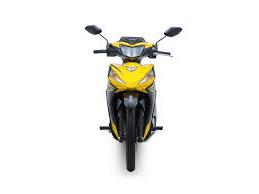motorcycle: (82, 23, 187, 177)
